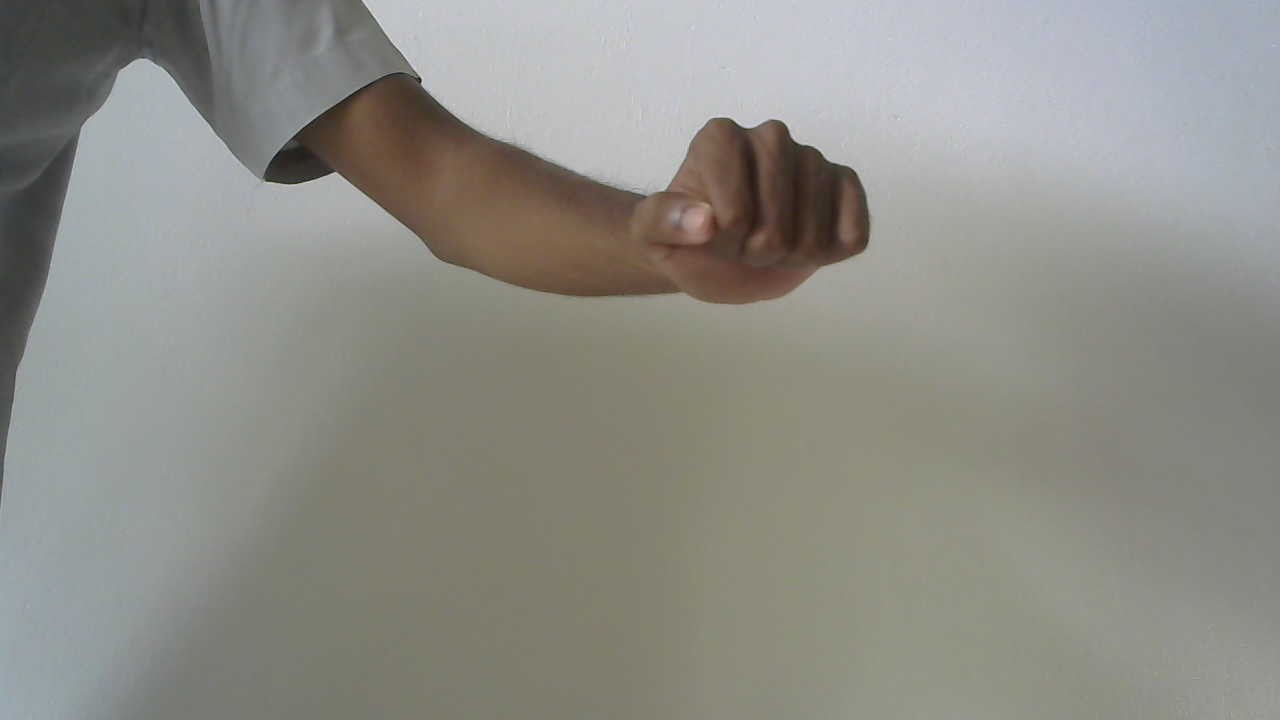yes: (615, 97, 896, 322)
